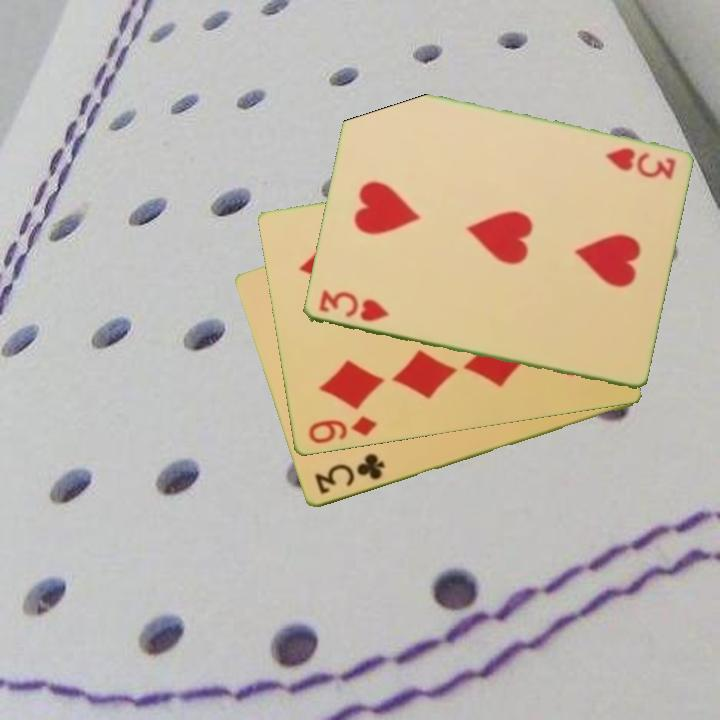3c: (311, 450, 388, 498)
3h: (315, 286, 392, 325), (601, 144, 678, 182)
9d: (304, 412, 379, 447)
